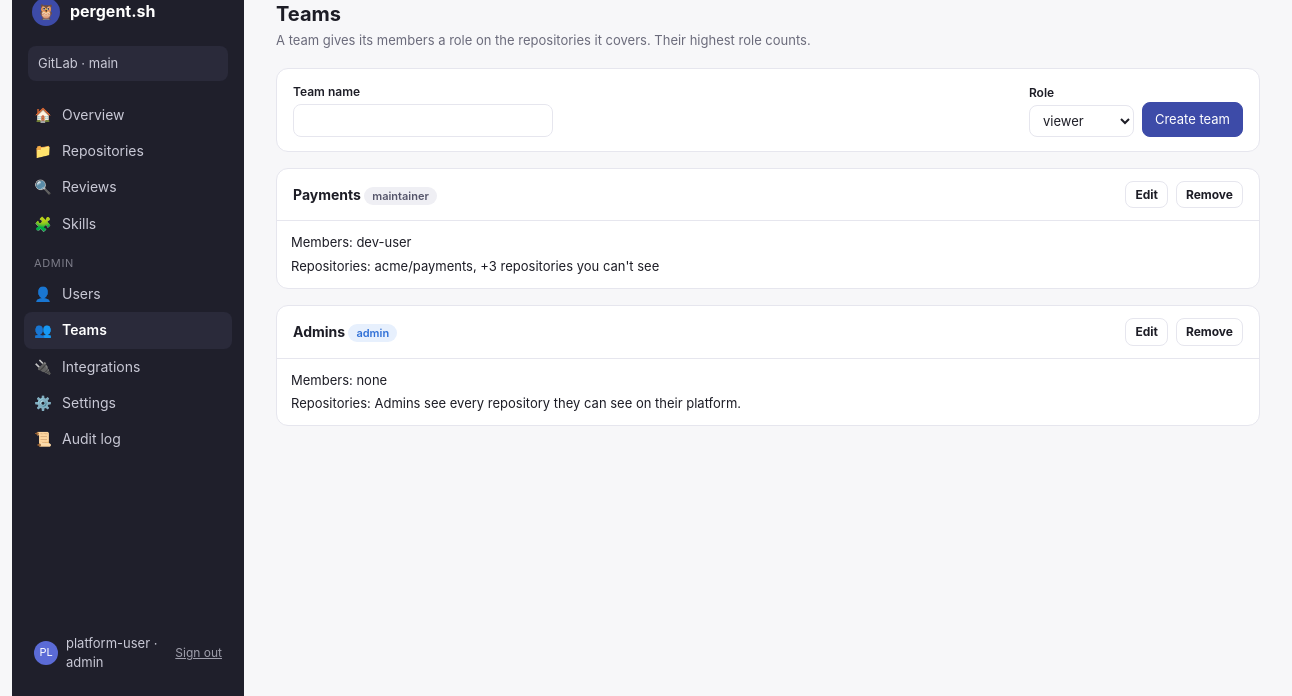
Test: Teams › says how many repositories the team covers that the admin can't see
Click the button "Edit" in the row of "maintainer": (1147, 195) [1125,181,1168,208]
(page scrolled)
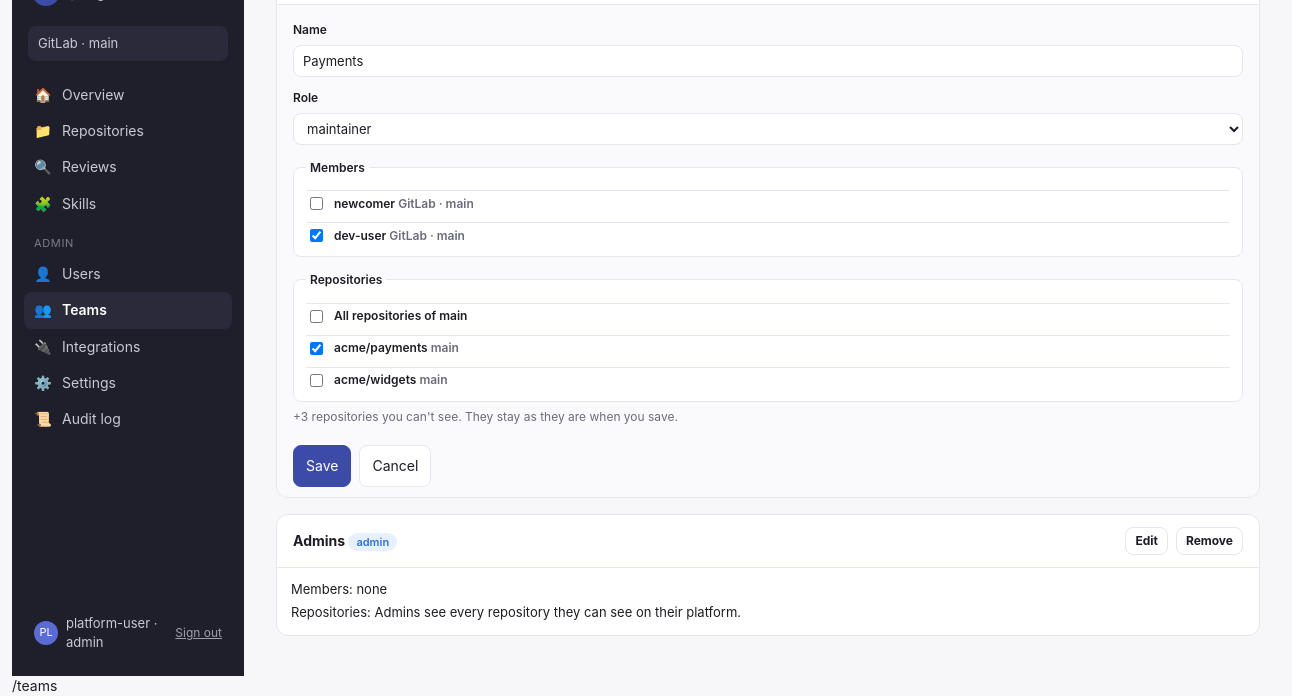
Expected: the element "Admins" does not show "you can't see", [276,514,1260,636]
Result: the form named "Edit Payments" shows "+3 repositories you can't see" at [293,409,458,424]
